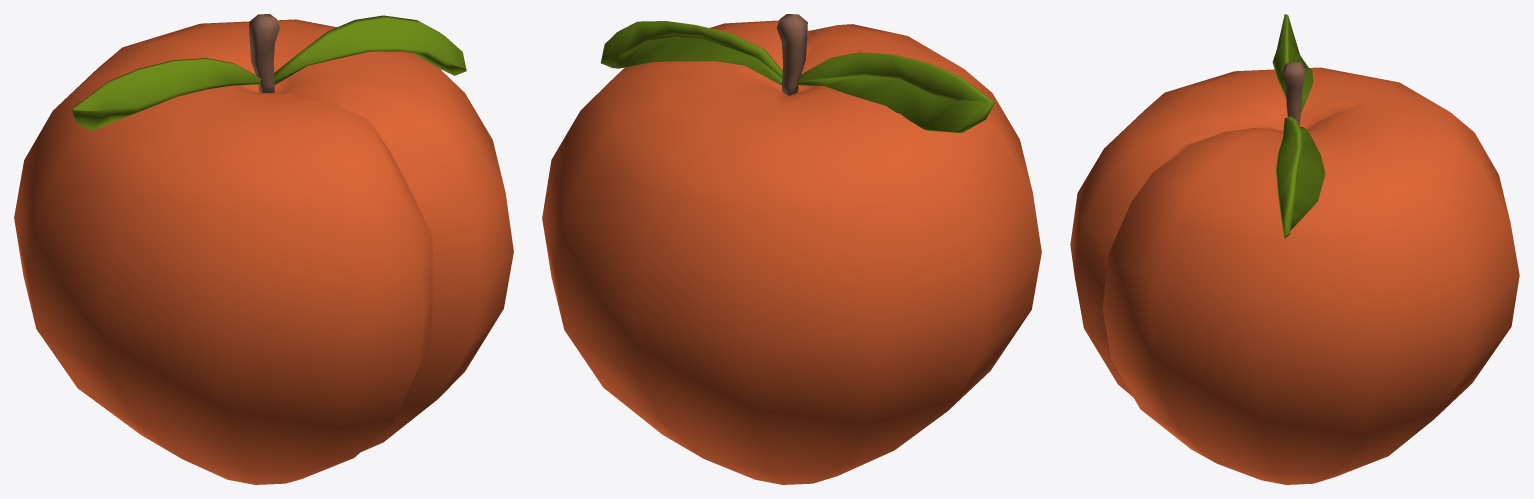
Rendered from apricot.glb.
3 views of the same model, side by side, from view 1: azimuth 30°, elevation 25°; view 2: azimuth 150°, elevation 25°; view 3: azimuth 270°, elevation 25° (orthographic). The views are drawn at different scales.
Parts seen in each view (by area): view 1: peach, leaf_02, leaf_01, stem; view 2: peach, leaf_02, leaf_01, stem; view 3: peach, leaf_01, leaf_02, stem.
Boxes of the visible parts, left/top/right/bottom form: peach: left=14, top=19, right=513, bottom=484; leaf_02: left=72, top=58, right=261, bottom=130; leaf_01: left=274, top=15, right=466, bottom=84; stem: left=249, top=14, right=279, bottom=93; peach: left=542, top=20, right=1041, bottom=484; leaf_02: left=795, top=52, right=995, bottom=132; leaf_01: left=600, top=21, right=782, bottom=84; stem: left=776, top=14, right=807, bottom=95; peach: left=1070, top=67, right=1519, bottom=484; leaf_01: left=1276, top=116, right=1325, bottom=238; leaf_02: left=1272, top=14, right=1313, bottom=113; stem: left=1284, top=62, right=1304, bottom=126.
Bounding box in the file's own units: 9.29 × 9.41 × 9.29.
